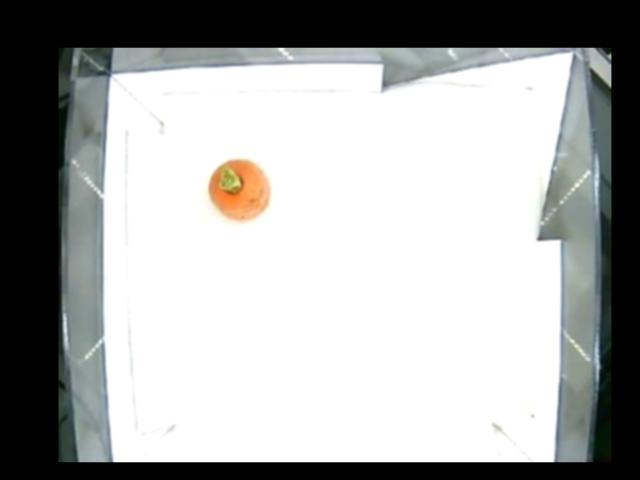Carrot: (208, 158, 271, 220)
